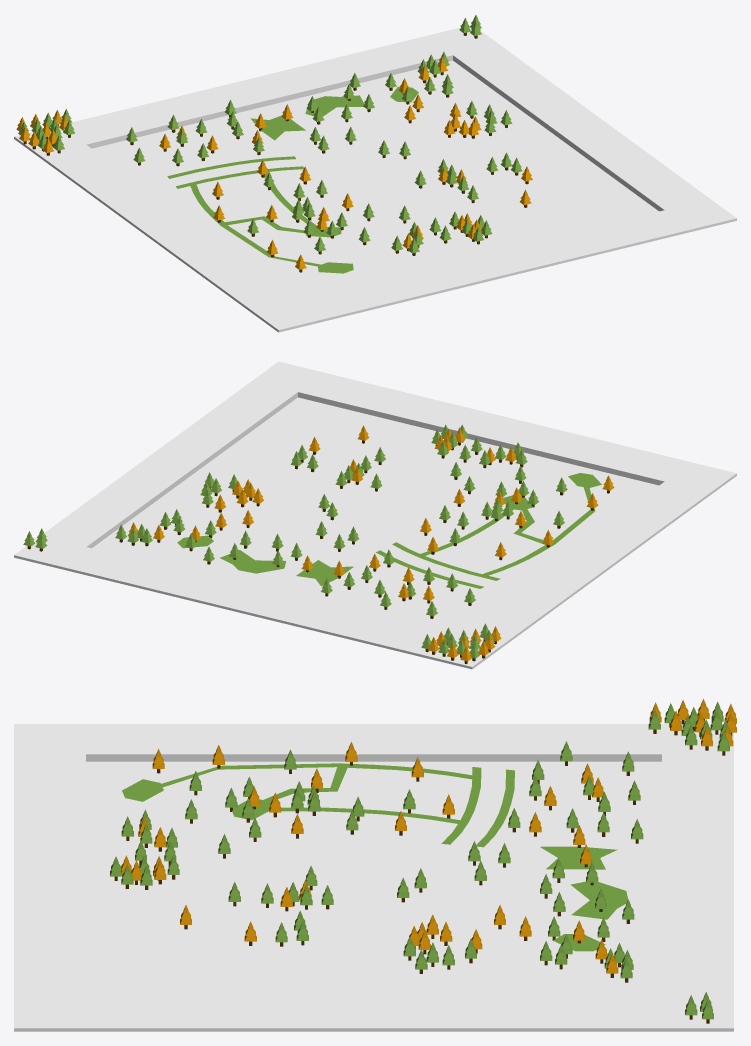
The model's file is orangerie.gltf.
3 renders of one model, top to bottom at view 1: azimuth 30°, elevation 25°; view 2: azimuth 150°, elevation 25°; view 3: azimuth 270°, elevation 25°, orthographic. The views are drawn at different scales.
Visible parts, largest first — view 1: bordure, Plane.017, Plane.018, Plane.015; view 2: bordure, Plane.017, Plane.018, Plane.015; view 3: bordure, Plane.017, Plane.018, Plane.015, Plane.011, Plane.010, Plane.016, Plane.014.
Boxes of the visible parts, bbox=[...] form: bordure: bbox=[14, 25, 736, 332]; Plane.017: bbox=[189, 183, 320, 266]; Plane.018: bbox=[305, 95, 364, 116]; Plane.015: bbox=[250, 115, 305, 140]; bordure: bbox=[14, 361, 736, 669]; Plane.017: bbox=[479, 487, 595, 577]; Plane.018: bbox=[220, 550, 285, 573]; Plane.015: bbox=[296, 560, 353, 586]; bordure: bbox=[14, 724, 733, 1031]; Plane.017: bbox=[161, 763, 478, 801]; Plane.018: bbox=[570, 881, 628, 919]; Plane.015: bbox=[540, 846, 617, 869]; Plane.011: bbox=[476, 769, 514, 847]; Plane.010: bbox=[441, 767, 481, 844]; Plane.016: bbox=[281, 807, 460, 823]; Plane.014: bbox=[122, 779, 163, 801].
Bounding box in the file's own units: 4.05 × 0.2012 × 4.03.
Materials: 4 (4 with a texture image).
